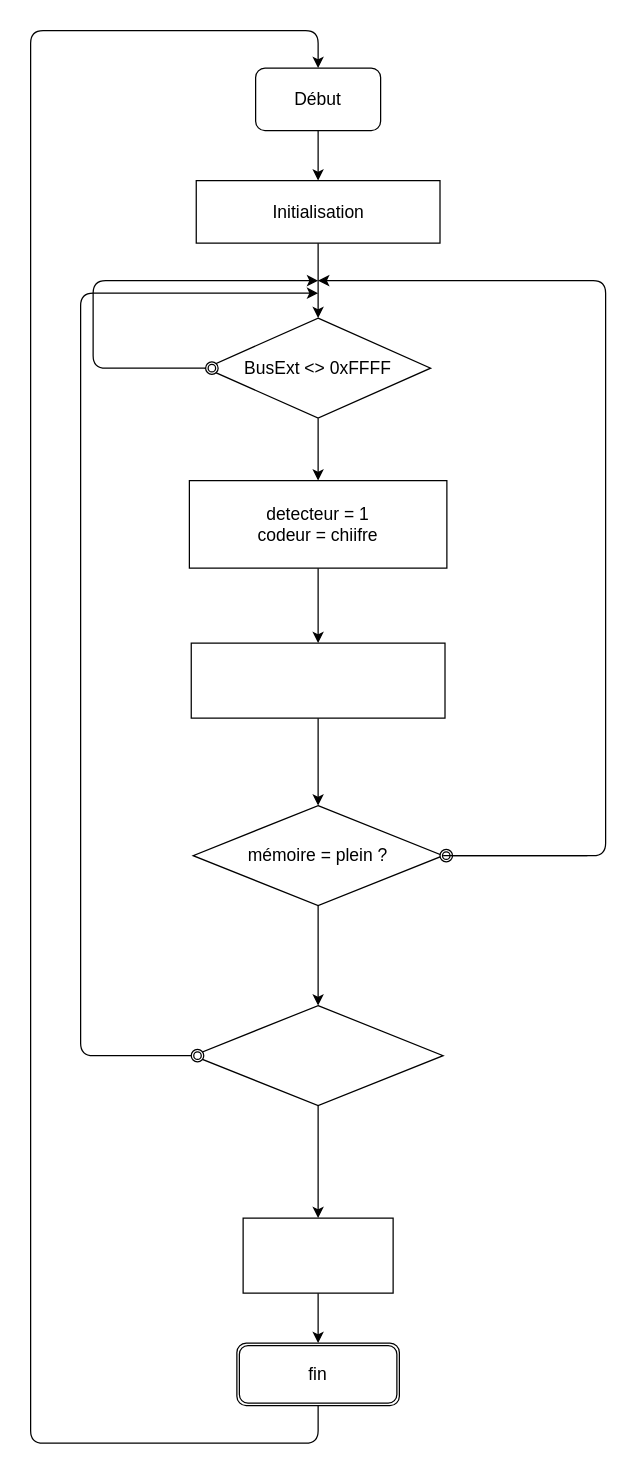
The diagram is 638 pixels wide and 1475 high, and some of its shapes have lost their labels. The shapes that lost their labels are listed below. From the top down, each one's centre as x and y in pixels, then its label:
At point 317,680: "mémoire += chiffre".
At point 317,1055: "comparateur = 1 ?".
At point 317,1255: "ouverture".
